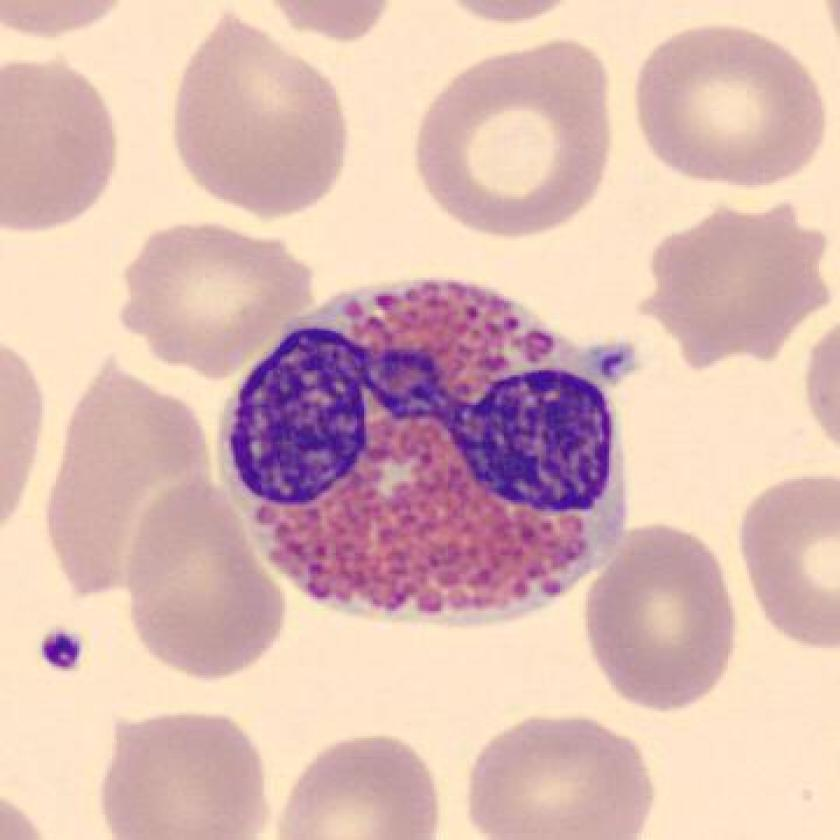eosinophil: (211, 270, 645, 640)
